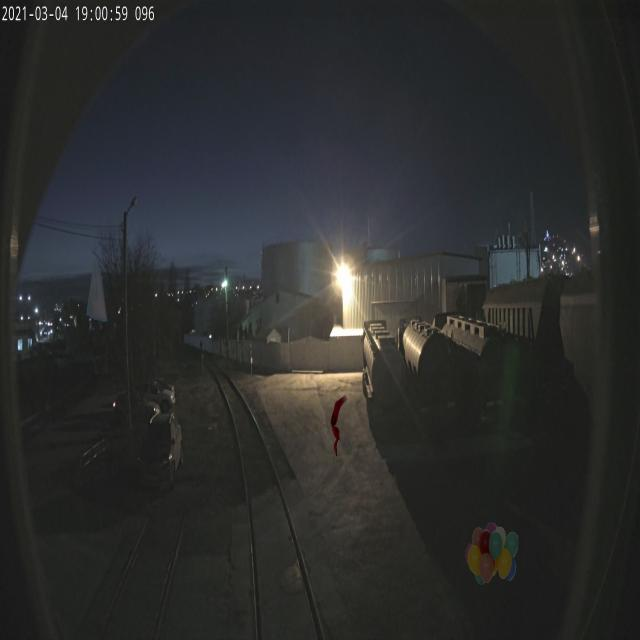balloon: (464, 521, 518, 585), (86, 258, 108, 322)
floating object: (330, 392, 347, 457)
